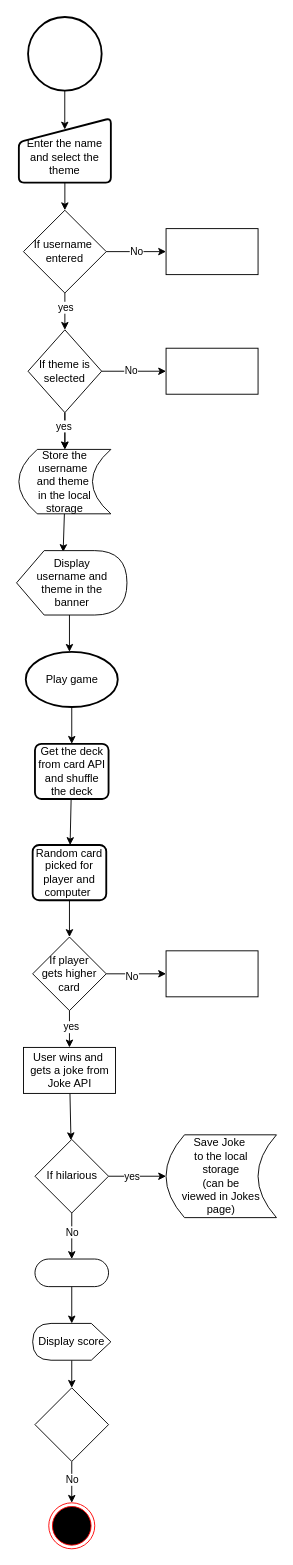
The diagram is 293 pixels wide and 1565 high, and some of its shapes have lost their labels. Here are the shapes that lost their labels. From the top down, the box of each, then its label:
(27, 16, 102, 91): Start
(165, 228, 258, 275): Getting the prompt to enter username
(165, 347, 258, 394): Default theme is selected
(165, 950, 258, 997): Computer wins
(34, 1258, 109, 1287): Game ends
(34, 1387, 109, 1461): Restart
